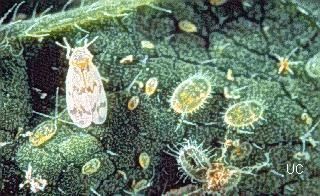whitefly: (56, 35, 108, 127)
